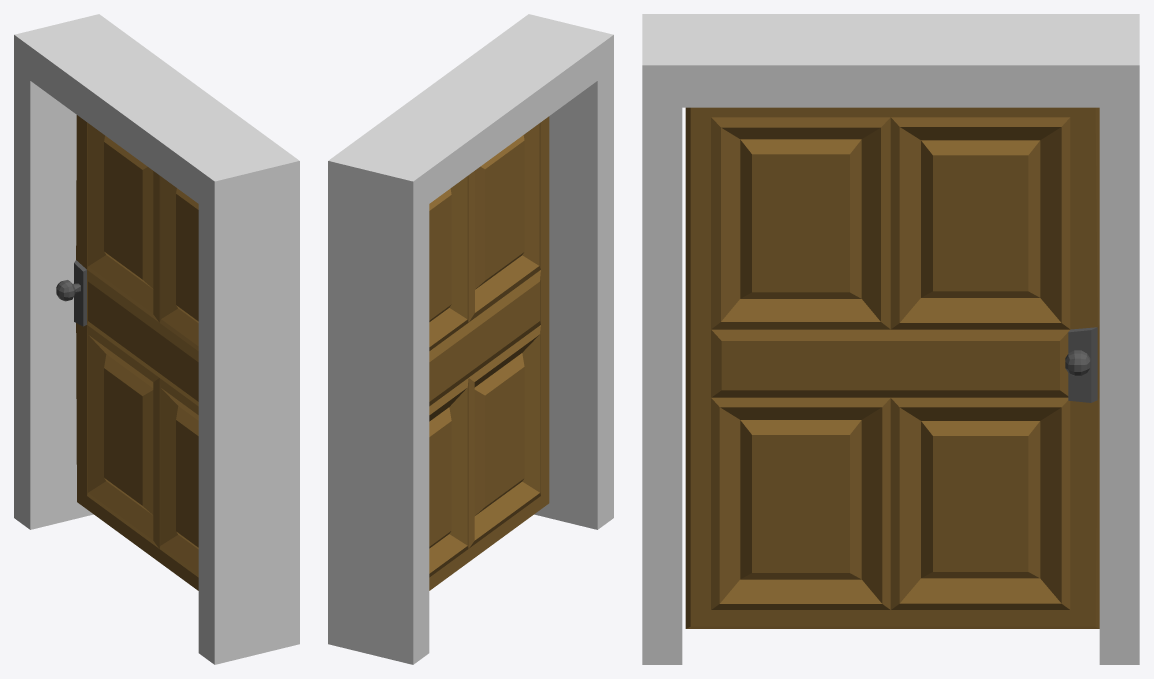
File: Pintu.fbx
3 renders of one model, left to right at view 1: azimuth 30°, elevation 25°; view 2: azimuth 150°, elevation 25°; view 3: azimuth 270°, elevation 25°, orthographic. The views are drawn at different scales.
Visible parts, largest first — view 1: Cube.024, Cube.002; view 2: Cube.024, Cube.002; view 3: Cube.002, Cube.024.
Part boxes in pixels (left/top/right/bottom): Cube.024: left=14, top=14, right=299, bottom=664; Cube.002: left=56, top=115, right=198, bottom=590; Cube.024: left=328, top=14, right=613, bottom=664; Cube.002: left=429, top=116, right=549, bottom=590; Cube.002: left=685, top=107, right=1099, bottom=628; Cube.024: left=642, top=14, right=1139, bottom=664.
Bounding box in the file's own units: 74.17 × 401 × 302.
